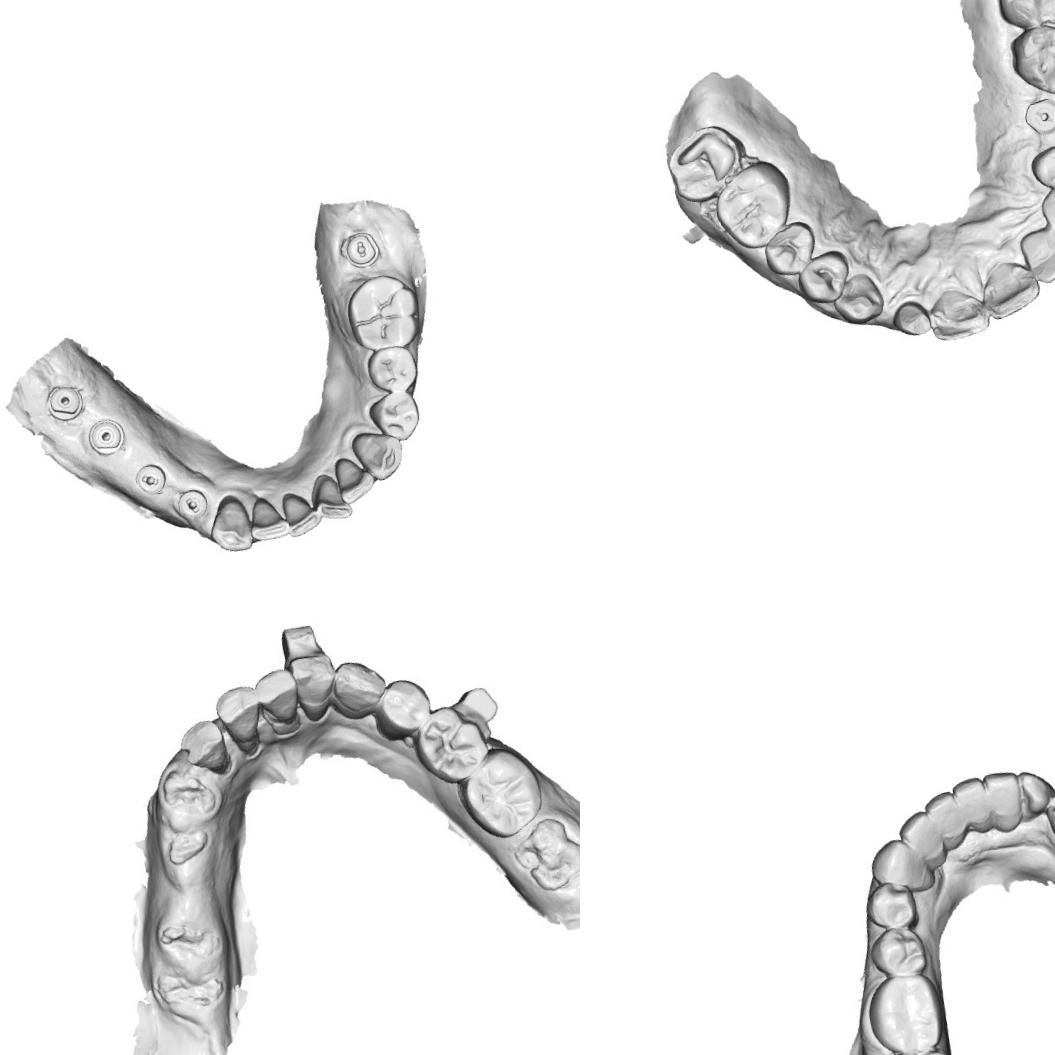canine: (862, 830, 936, 898), (326, 655, 390, 722), (347, 423, 408, 486), (826, 268, 886, 329), (202, 494, 254, 557), (1012, 764, 1055, 822), (1034, 181, 1055, 246)
crown: (888, 293, 934, 342)
implant: (83, 414, 129, 459), (43, 380, 87, 424)
implant_minus: (338, 226, 383, 270), (1018, 93, 1055, 140), (172, 482, 211, 522), (132, 458, 170, 498)
incisor: (972, 252, 1046, 322), (924, 280, 993, 346), (894, 806, 949, 874), (919, 782, 970, 855), (216, 685, 268, 756), (177, 717, 235, 780), (948, 770, 997, 842), (290, 652, 339, 723), (980, 766, 1027, 835), (1014, 220, 1055, 288), (330, 450, 379, 506), (257, 668, 302, 727), (244, 490, 292, 544), (276, 486, 324, 540), (307, 472, 355, 526)
molar: (706, 153, 802, 257), (659, 118, 755, 208), (859, 966, 953, 1055), (340, 266, 427, 356), (461, 746, 545, 839), (410, 698, 492, 786), (1003, 16, 1055, 107), (990, 0, 1055, 37)
premolar: (366, 671, 441, 742), (864, 921, 932, 985), (790, 245, 856, 309), (758, 218, 822, 280), (858, 874, 922, 936), (363, 385, 425, 446), (360, 340, 422, 398), (1025, 137, 1055, 197), (1040, 784, 1055, 847)
